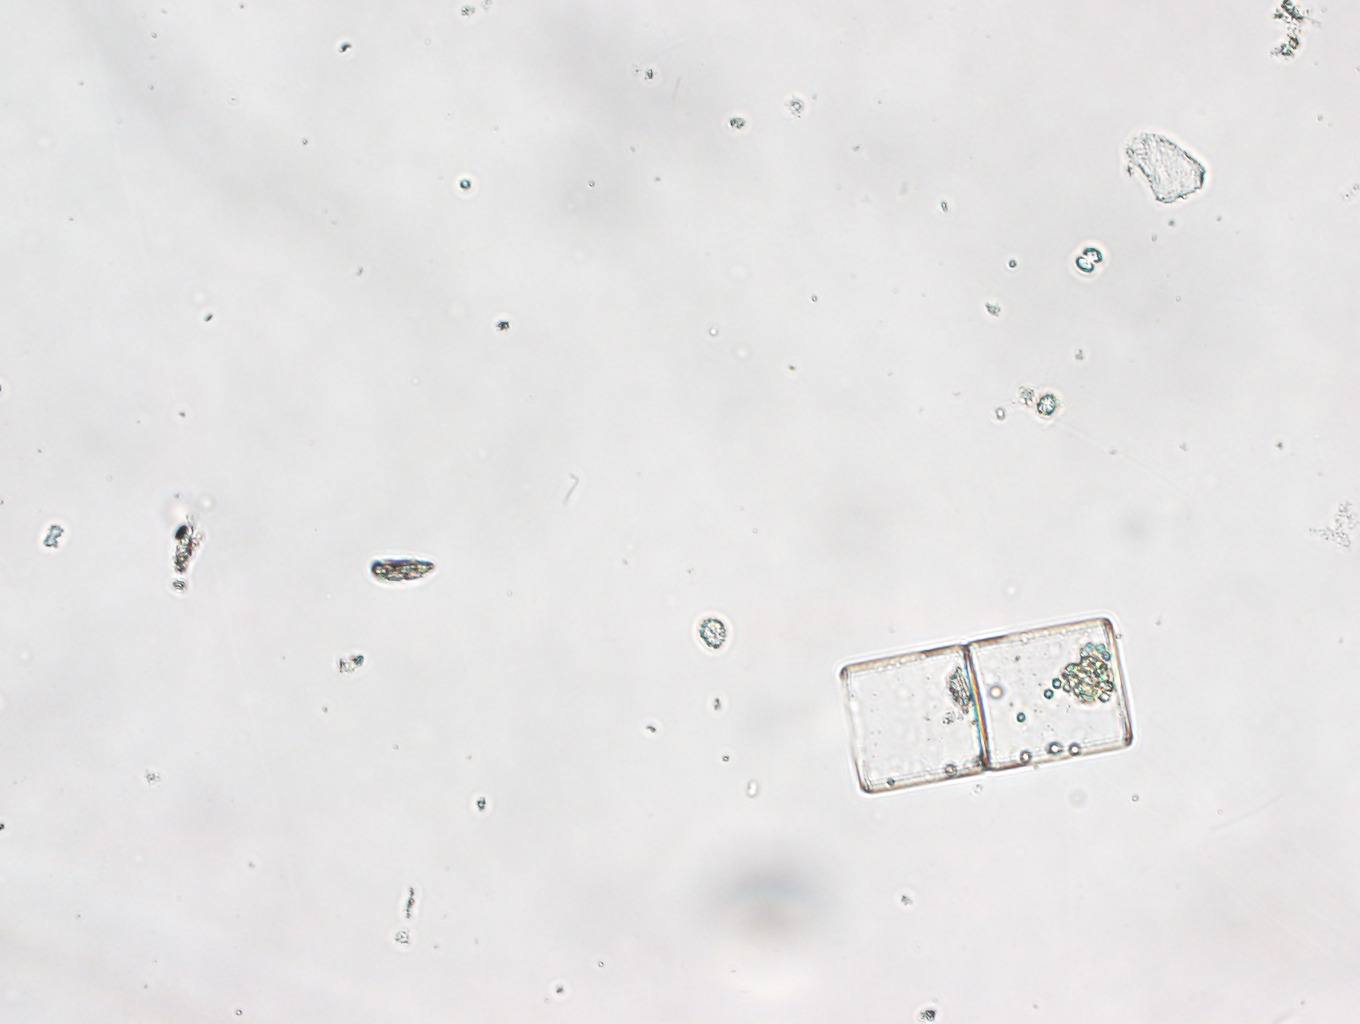guinardia flaccida: (817, 608, 1144, 801)
